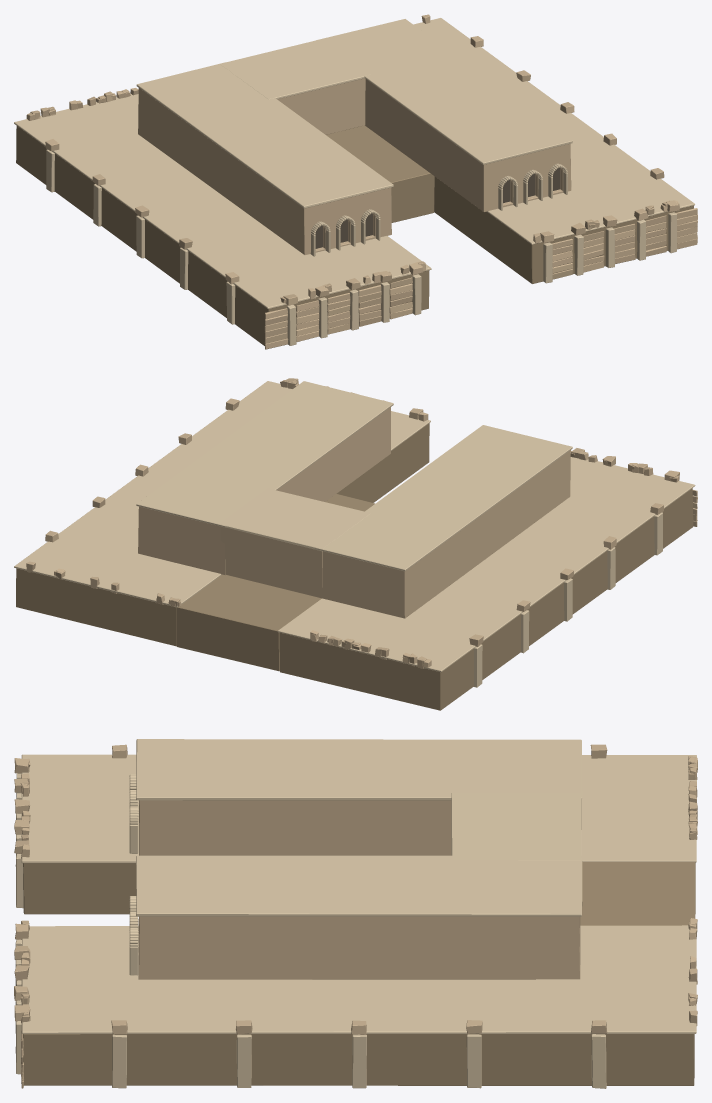
The model's file is citadel.glb.
The picture shows the model from 3 angles, top to bottom: view 1: azimuth 30°, elevation 25°; view 2: azimuth 150°, elevation 25°; view 3: azimuth 270°, elevation 25°; orthographic projection. The views are drawn at different scales.
Parts seen in each view (by area): view 1: citadel_trim, citadel_stone, citadel_darkstone, citadel_deep; view 2: citadel_trim, citadel_darkstone, citadel_stone; view 3: citadel_trim, citadel_stone, citadel_darkstone.
Part boxes in pixels (box(x1,y1,x2,y2)): citadel_trim: box(14, 18, 694, 345); citadel_stone: box(26, 14, 697, 349); citadel_darkstone: box(16, 125, 693, 345); citadel_deep: box(315, 167, 560, 248); citadel_trim: box(14, 381, 695, 687); citadel_darkstone: box(16, 423, 693, 710); citadel_stone: box(26, 378, 697, 668); citadel_trim: box(15, 739, 696, 1088); citadel_stone: box(14, 744, 697, 1088); citadel_darkstone: box(23, 862, 695, 1085).
Size of the model in its own units: 69.44 by 14.18 by 71.34.
